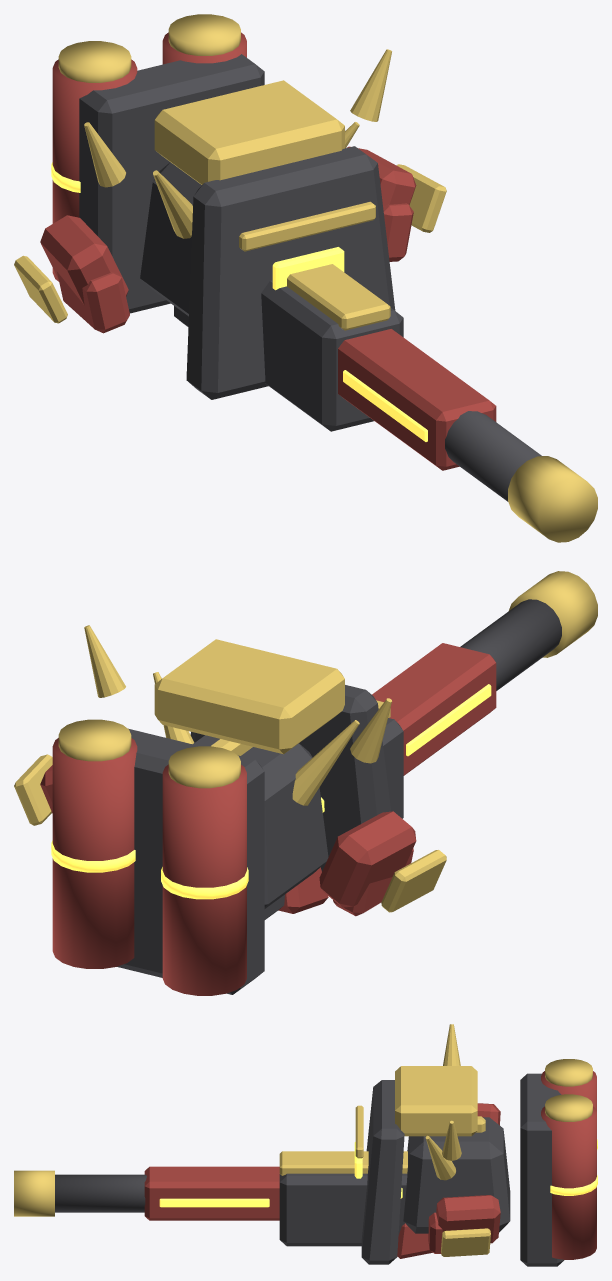
Rendered from boss_tyrant_kit.glb.
3 views of the same model, one above another, from view 1: azimuth 30°, elevation 25°; view 2: azimuth 150°, elevation 25°; view 3: azimuth 270°, elevation 25° (orthographic). The views are drawn at different scales.
Parts seen in each view (by area): view 1: WarlordChest, TankHarness, WarlordCollar, CoolingShroud, CannonHull, MuzzleBrake, WarlordHelm, CannonBarrel, FuelTank_-1, CannonGoldRail, TY_Pauldron_-1_Cap, ChestTrimGold (+13 smaller); view 2: FuelTank_-1, FuelTank_1, WarlordCollar, TankHarness, CoolingShroud, WarlordHelm, WarlordChest, TY_Pauldron_-1_Cap, CannonBarrel, MuzzleBrake, TankCap_1, TankCap_-1 (+11 smaller); view 3: WarlordHelm, CannonHull, CoolingShroud, FuelTank_1, WarlordChest, TankHarness, WarlordCollar, CannonBarrel, TY_Pauldron_1_Cap, CannonGoldRail, MuzzleBrake, TY_Pauldron_1_Trim (+12 smaller).
Boxes of the visible parts, x1=… form: WarlordChest: x1=186, y1=146, x2=395, y2=399; TankHarness: x1=79, y1=54, x2=264, y2=313; WarlordCollar: x1=154, y1=80, x2=344, y2=184; CoolingShroud: x1=338, y1=329, x2=496, y2=470; CannonHull: x1=174, y1=280, x2=403, y2=431; MuzzleBrake: x1=508, y1=456, x2=597, y2=542; WarlordHelm: x1=140, y1=162, x2=201, y2=316; CannonBarrel: x1=445, y1=411, x2=542, y2=501; FuelTank_-1: x1=52, y1=59, x2=137, y2=281; CannonGoldRail: x1=287, y1=264, x2=390, y2=330; TY_Pauldron_-1_Cap: x1=40, y1=215, x2=128, y2=304; ChestTrimGold: x1=239, y1=201, x2=375, y2=251; FuelTank_-1: x1=162, y1=764, x2=246, y2=995; FuelTank_1: x1=52, y1=738, x2=137, y2=968; WarlordCollar: x1=154, y1=639, x2=344, y2=754; TankHarness: x1=117, y1=728, x2=264, y2=994; CoolingShroud: x1=372, y1=643, x2=496, y2=775; WarlordHelm: x1=193, y1=735, x2=328, y2=908; WarlordChest: x1=190, y1=685, x2=391, y2=871; TY_Pauldron_-1_Cap: x1=319, y1=811, x2=416, y2=907; CannonBarrel: x1=460, y1=599, x2=561, y2=690; MuzzleBrake: x1=508, y1=571, x2=597, y2=657; TankCap_1: x1=58, y1=719, x2=131, y2=761; TankCap_-1: x1=168, y1=746, x2=240, y2=788; WarlordHelm: x1=403, y1=1117, x2=510, y2=1233; CannonHull: x1=279, y1=1173, x2=407, y2=1246; CoolingShroud: x1=144, y1=1166, x2=279, y2=1220; FuelTank_1: x1=541, y1=1106, x2=596, y2=1259; WarlordChest: x1=361, y1=1080, x2=404, y2=1264; TankHarness: x1=520, y1=1073, x2=564, y2=1266; WarlordCollar: x1=395, y1=1066, x2=477, y2=1136; CannonBarrel: x1=55, y1=1174, x2=146, y2=1212; TY_Pauldron_1_Cap: x1=436, y1=1195, x2=500, y2=1243; CannonGoldRail: x1=279, y1=1151, x2=407, y2=1175; MuzzleBrake: x1=14, y1=1170, x2=54, y2=1216; TY_Pauldron_1_Trim: x1=441, y1=1228, x2=490, y2=1256.
Size of the model in its own units: 0.6245 by 0.3784 by 1.17.
